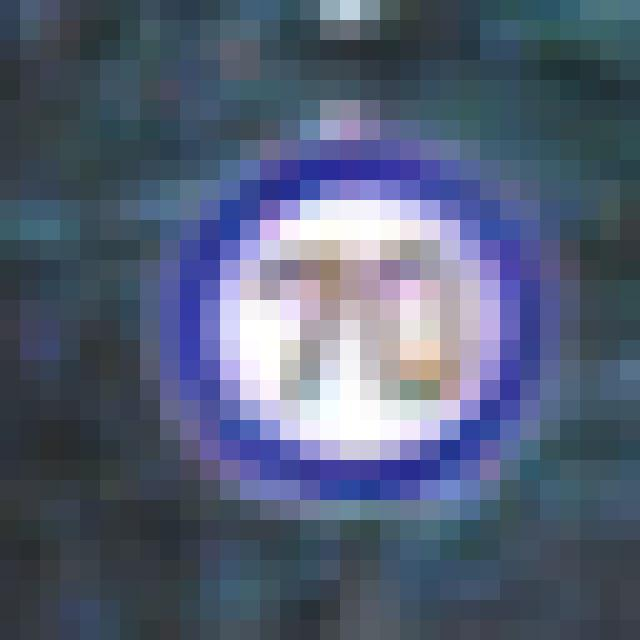SPEED LIMIT 70: (157, 158, 573, 514)
